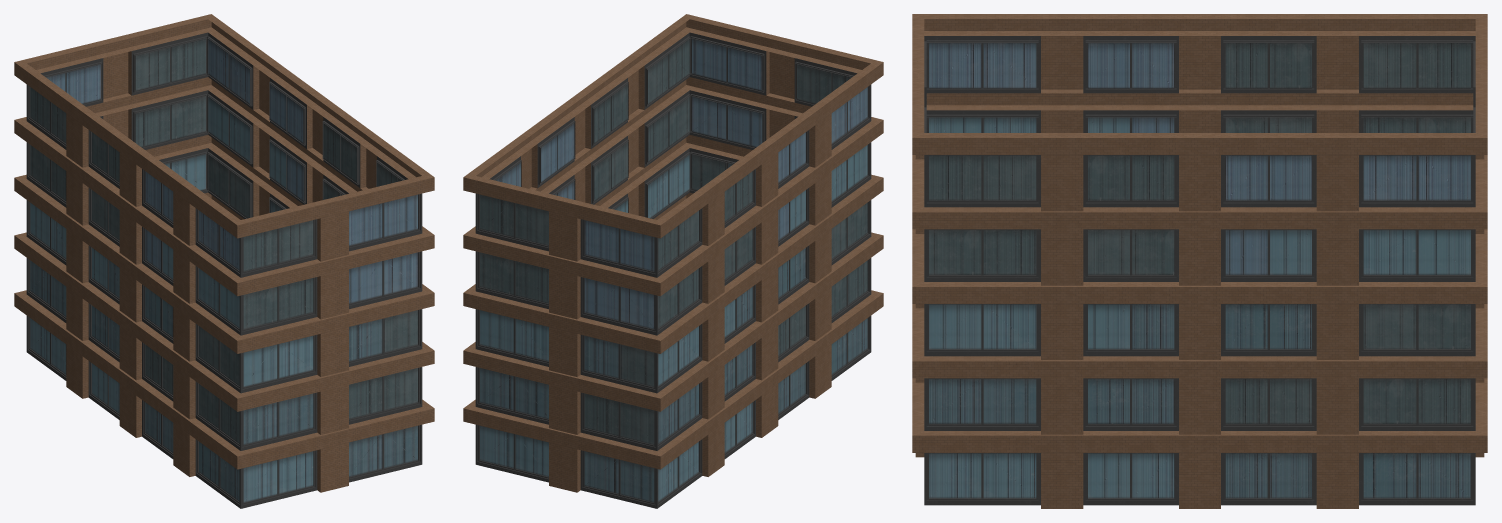
File: jctBld24_12D_mdl.fbx
3 views of the same model, side by side, from view 1: azimuth 30°, elevation 25°; view 2: azimuth 150°, elevation 25°; view 3: azimuth 270°, elevation 25° (orthographic). The views are drawn at different scales.
Visible parts, largest first — view 1: jctBld24_12D_mdl_LOD0; view 2: jctBld24_12D_mdl_LOD0; view 3: jctBld24_12D_mdl_LOD0.
Part boxes in pixels (x1,y1,x2,y2): jctBld24_12D_mdl_LOD0: (14, 14, 434, 508); jctBld24_12D_mdl_LOD0: (463, 14, 883, 508); jctBld24_12D_mdl_LOD0: (912, 14, 1487, 508).
Bounding box in the file's own units: 1250 × 1750 × 2450.
